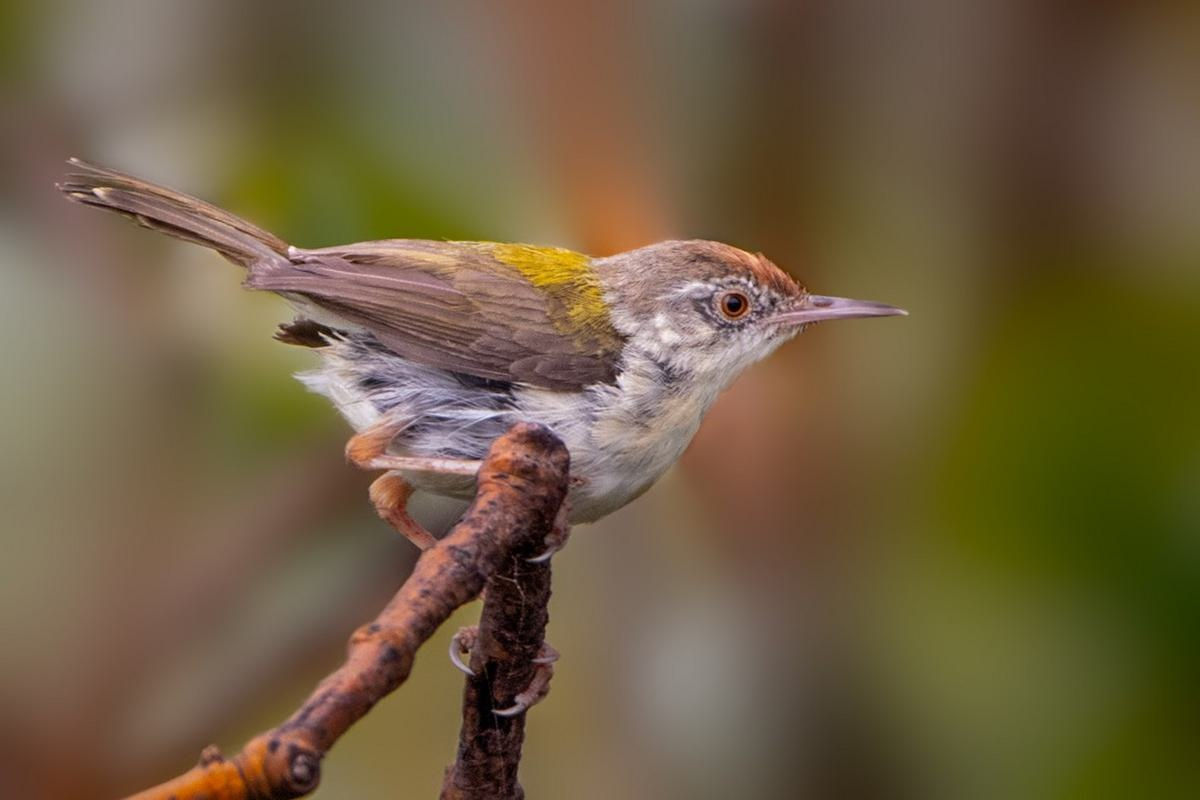tailorbird: (69, 157, 986, 584)
